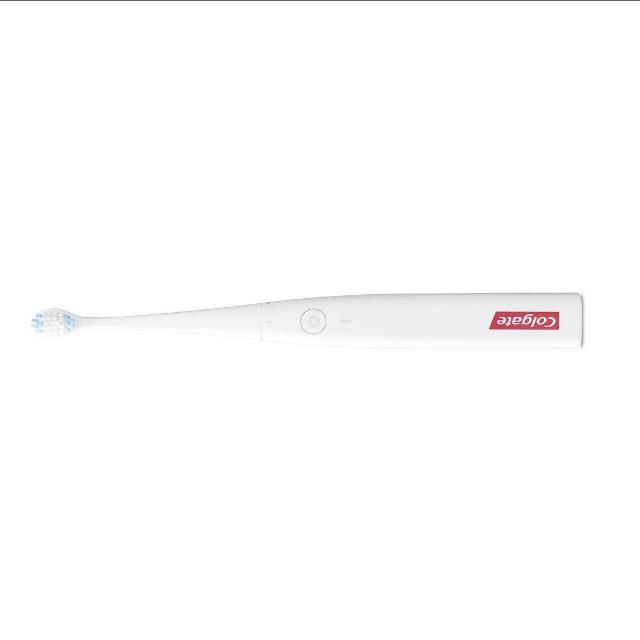toothbrush: (10, 273, 630, 397)
